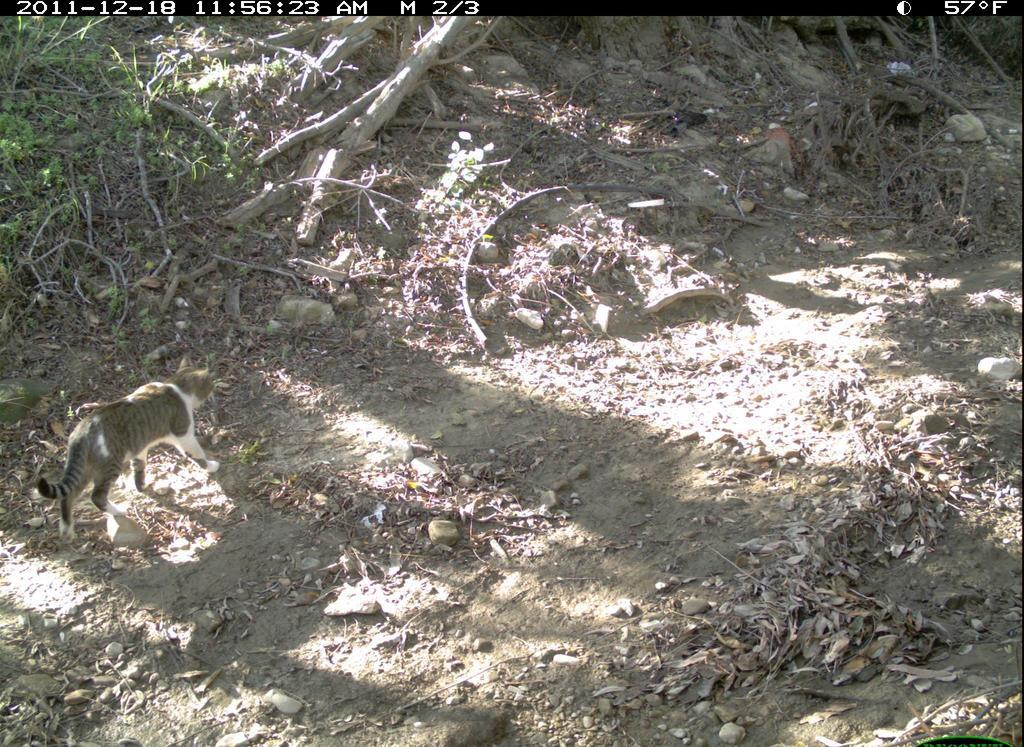cat: (43, 351, 237, 547)
